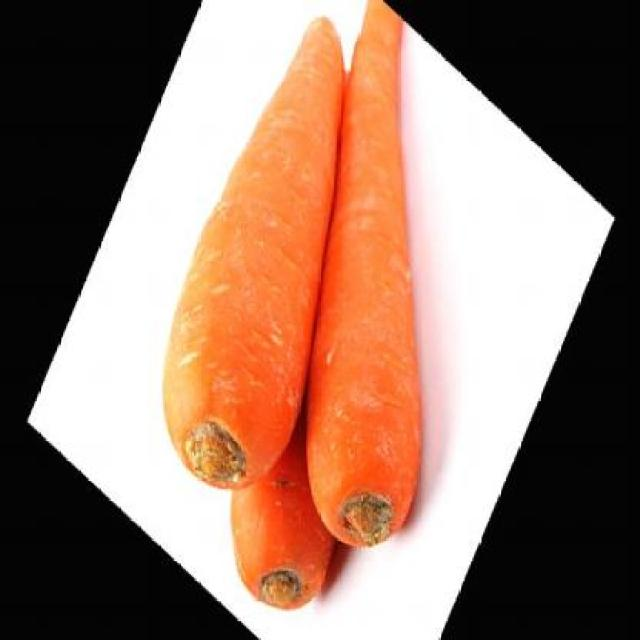carrot: (194, 0, 557, 585), (125, 0, 429, 534), (206, 377, 374, 638)
